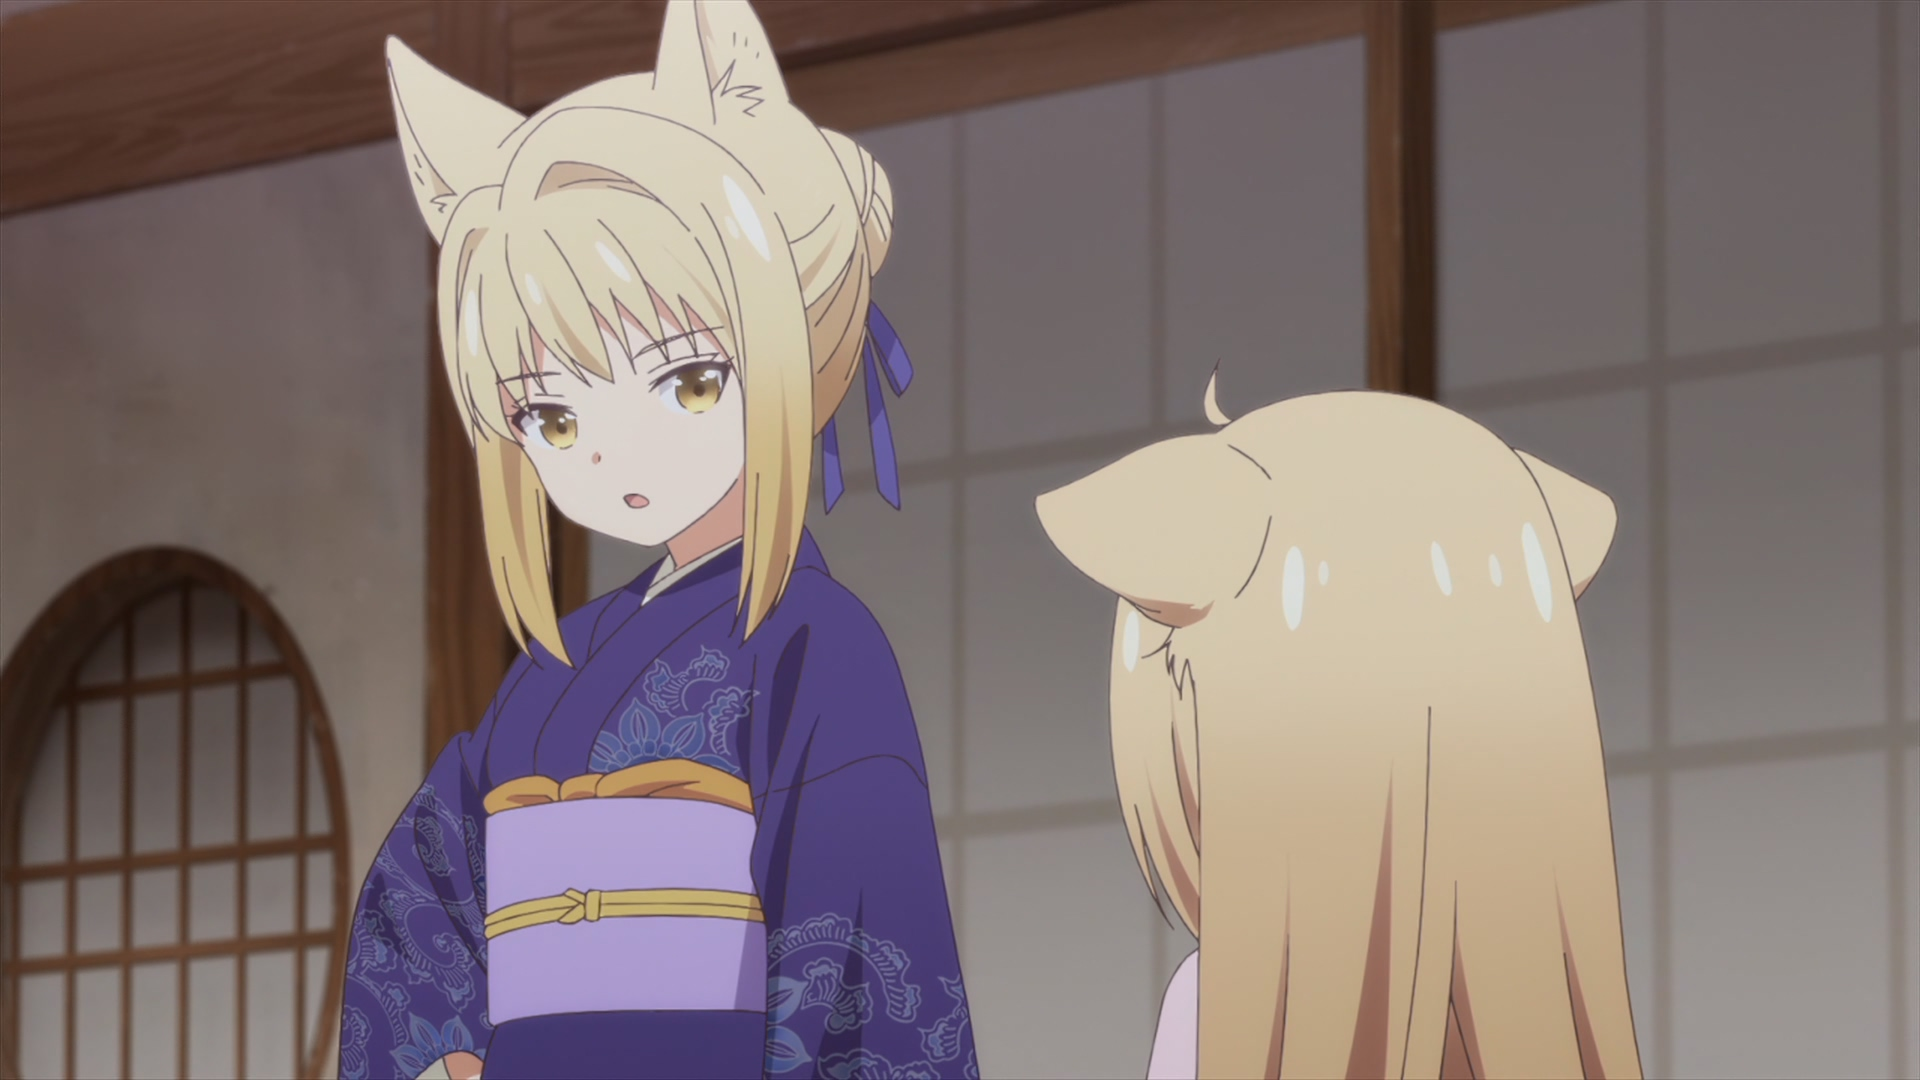柚: (1033, 361, 1640, 1080)
桐: (338, 1, 976, 1080)
